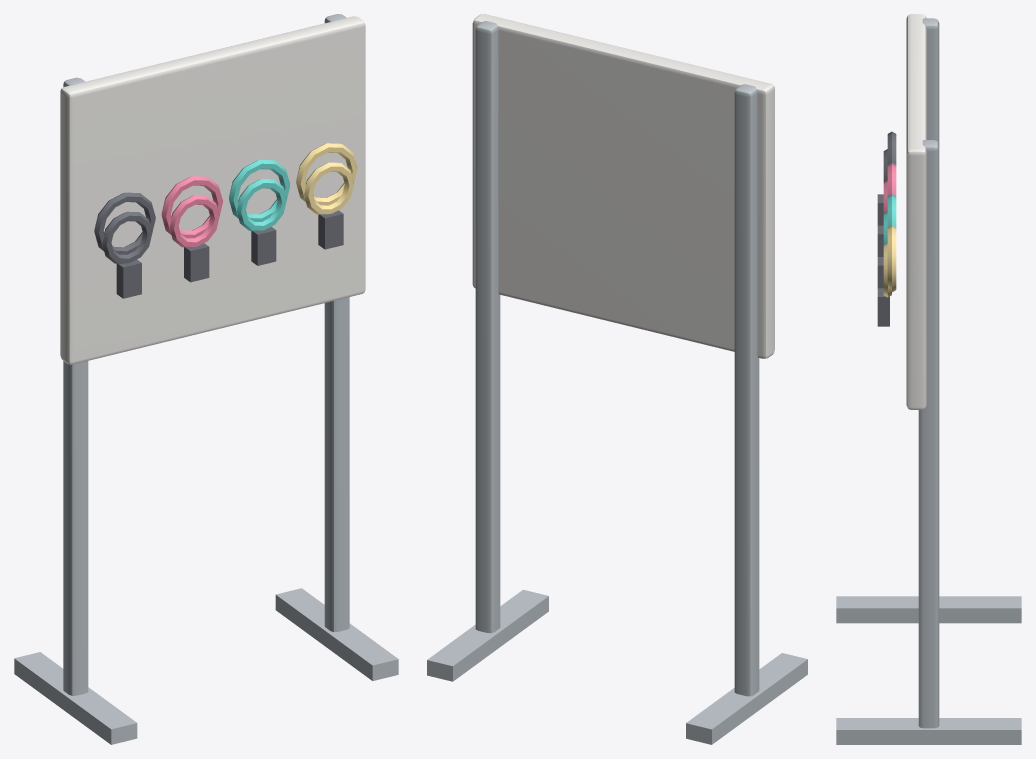
The model's file is LeashHooks.fbx.
3 views of the same model, side by side, from view 1: azimuth 30°, elevation 25°; view 2: azimuth 150°, elevation 25°; view 3: azimuth 270°, elevation 25° (orthographic). The views are drawn at different scales.
Parts seen in each view (by area): view 1: LeashHooks; view 2: LeashHooks; view 3: LeashHooks.
Part boxes in pixels (left/top/right/bottom): LeashHooks: left=14, top=14, right=398, bottom=744; LeashHooks: left=427, top=14, right=807, bottom=744; LeashHooks: left=836, top=14, right=1021, bottom=744.
Size of the model in its own units: 0.8 by 1.6 by 0.45.
